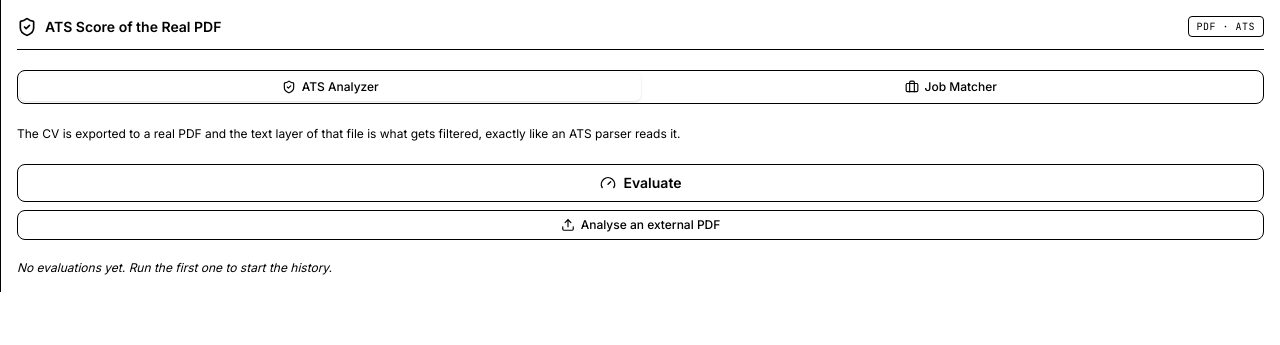
Test case: ATSAnalyzer › shows the failure instead of hanging when the evaluation throws
The width and height of the screenshot is (1280, 345).
Click the button "Evaluate". click: (640,182)
box: [17,164,1264,202]
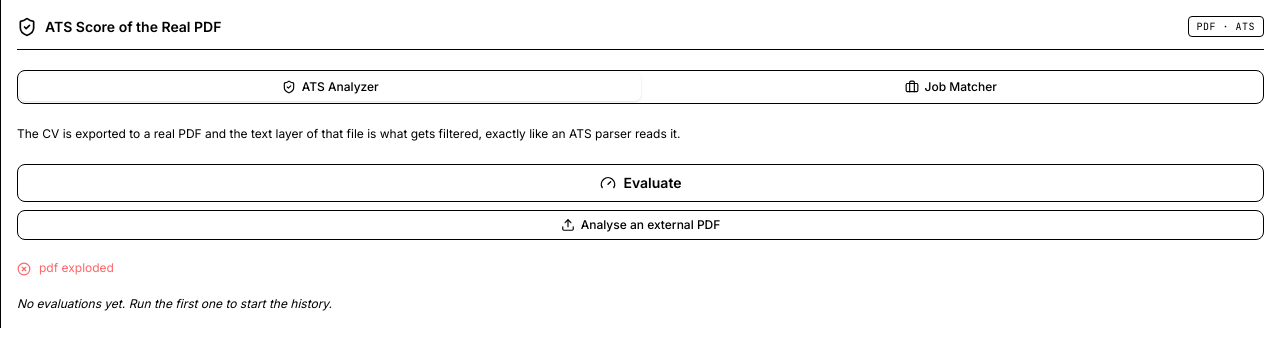
Now the text "pdf exploded" is shown, box [17,260,114,276]
